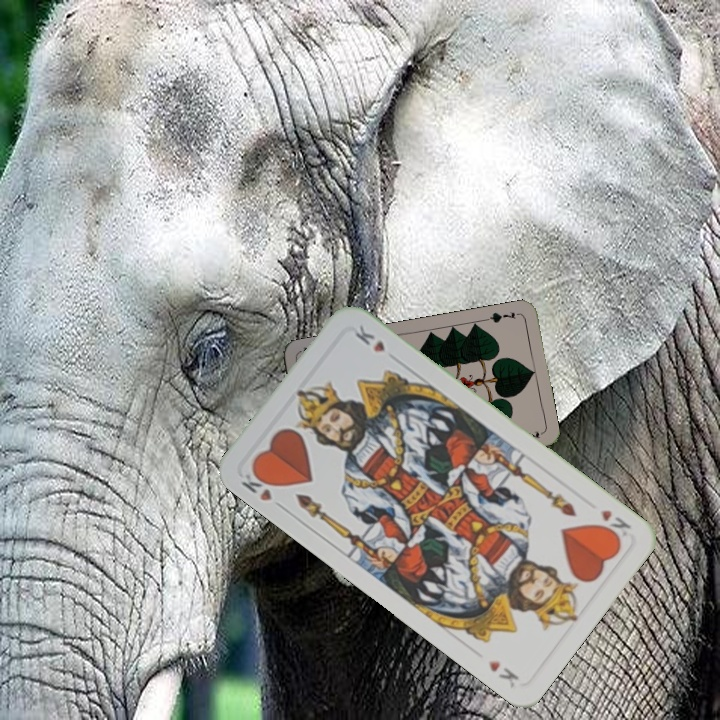G7: (482, 307, 523, 326)
HK: (237, 463, 288, 513), (594, 505, 634, 543)
